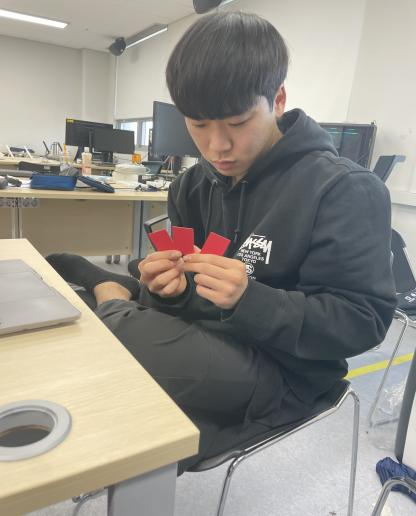ThreeHwatoo: (128, 206, 242, 269)
